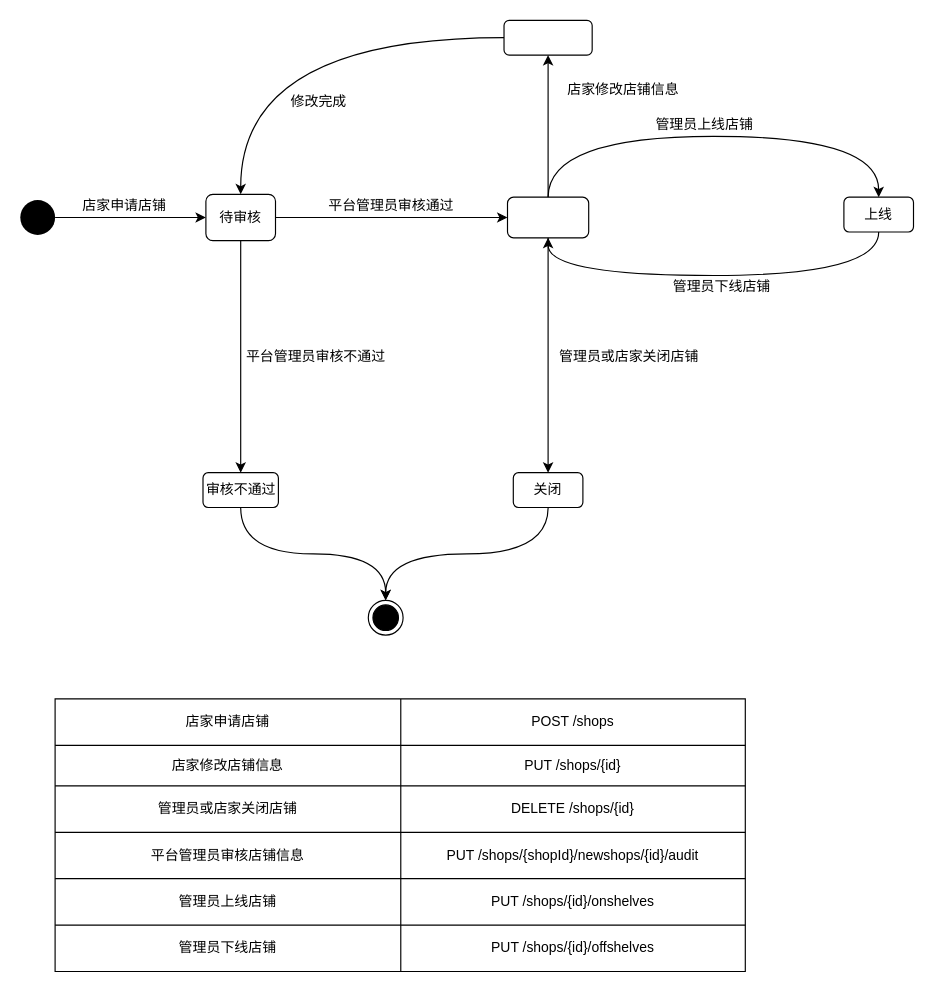
Some shapes in this 934 by 992 pixel diagram are drawn without their labels. The shapes that lost their labels are listed below. From the top down, each one's box as (x1, y1, x2, y2) in pixels, then its label:
(503, 19, 592, 55): 修改中
(506, 196, 589, 238): 下线
